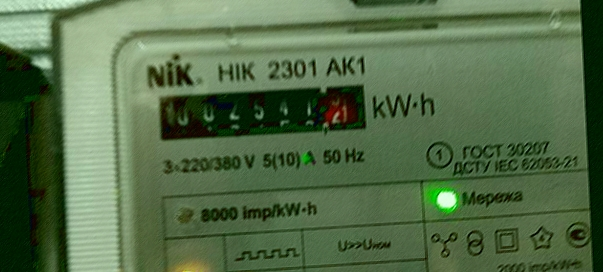0: (172, 100, 191, 127), (199, 96, 215, 123)
1: (299, 89, 313, 117)
2: (223, 95, 241, 120)
4: (275, 91, 289, 115)
5: (248, 92, 268, 121)
6: (327, 105, 343, 124)
screen: (145, 69, 381, 151)
